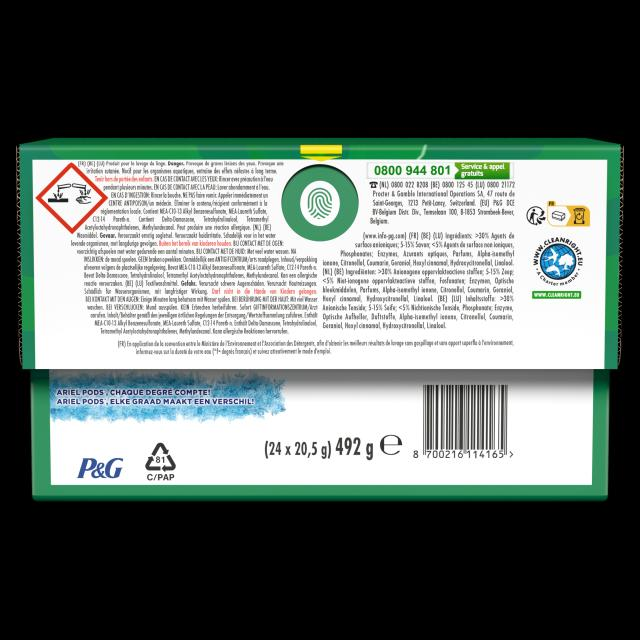GHS_Symbol_CORROSION: (35, 162, 107, 234)
